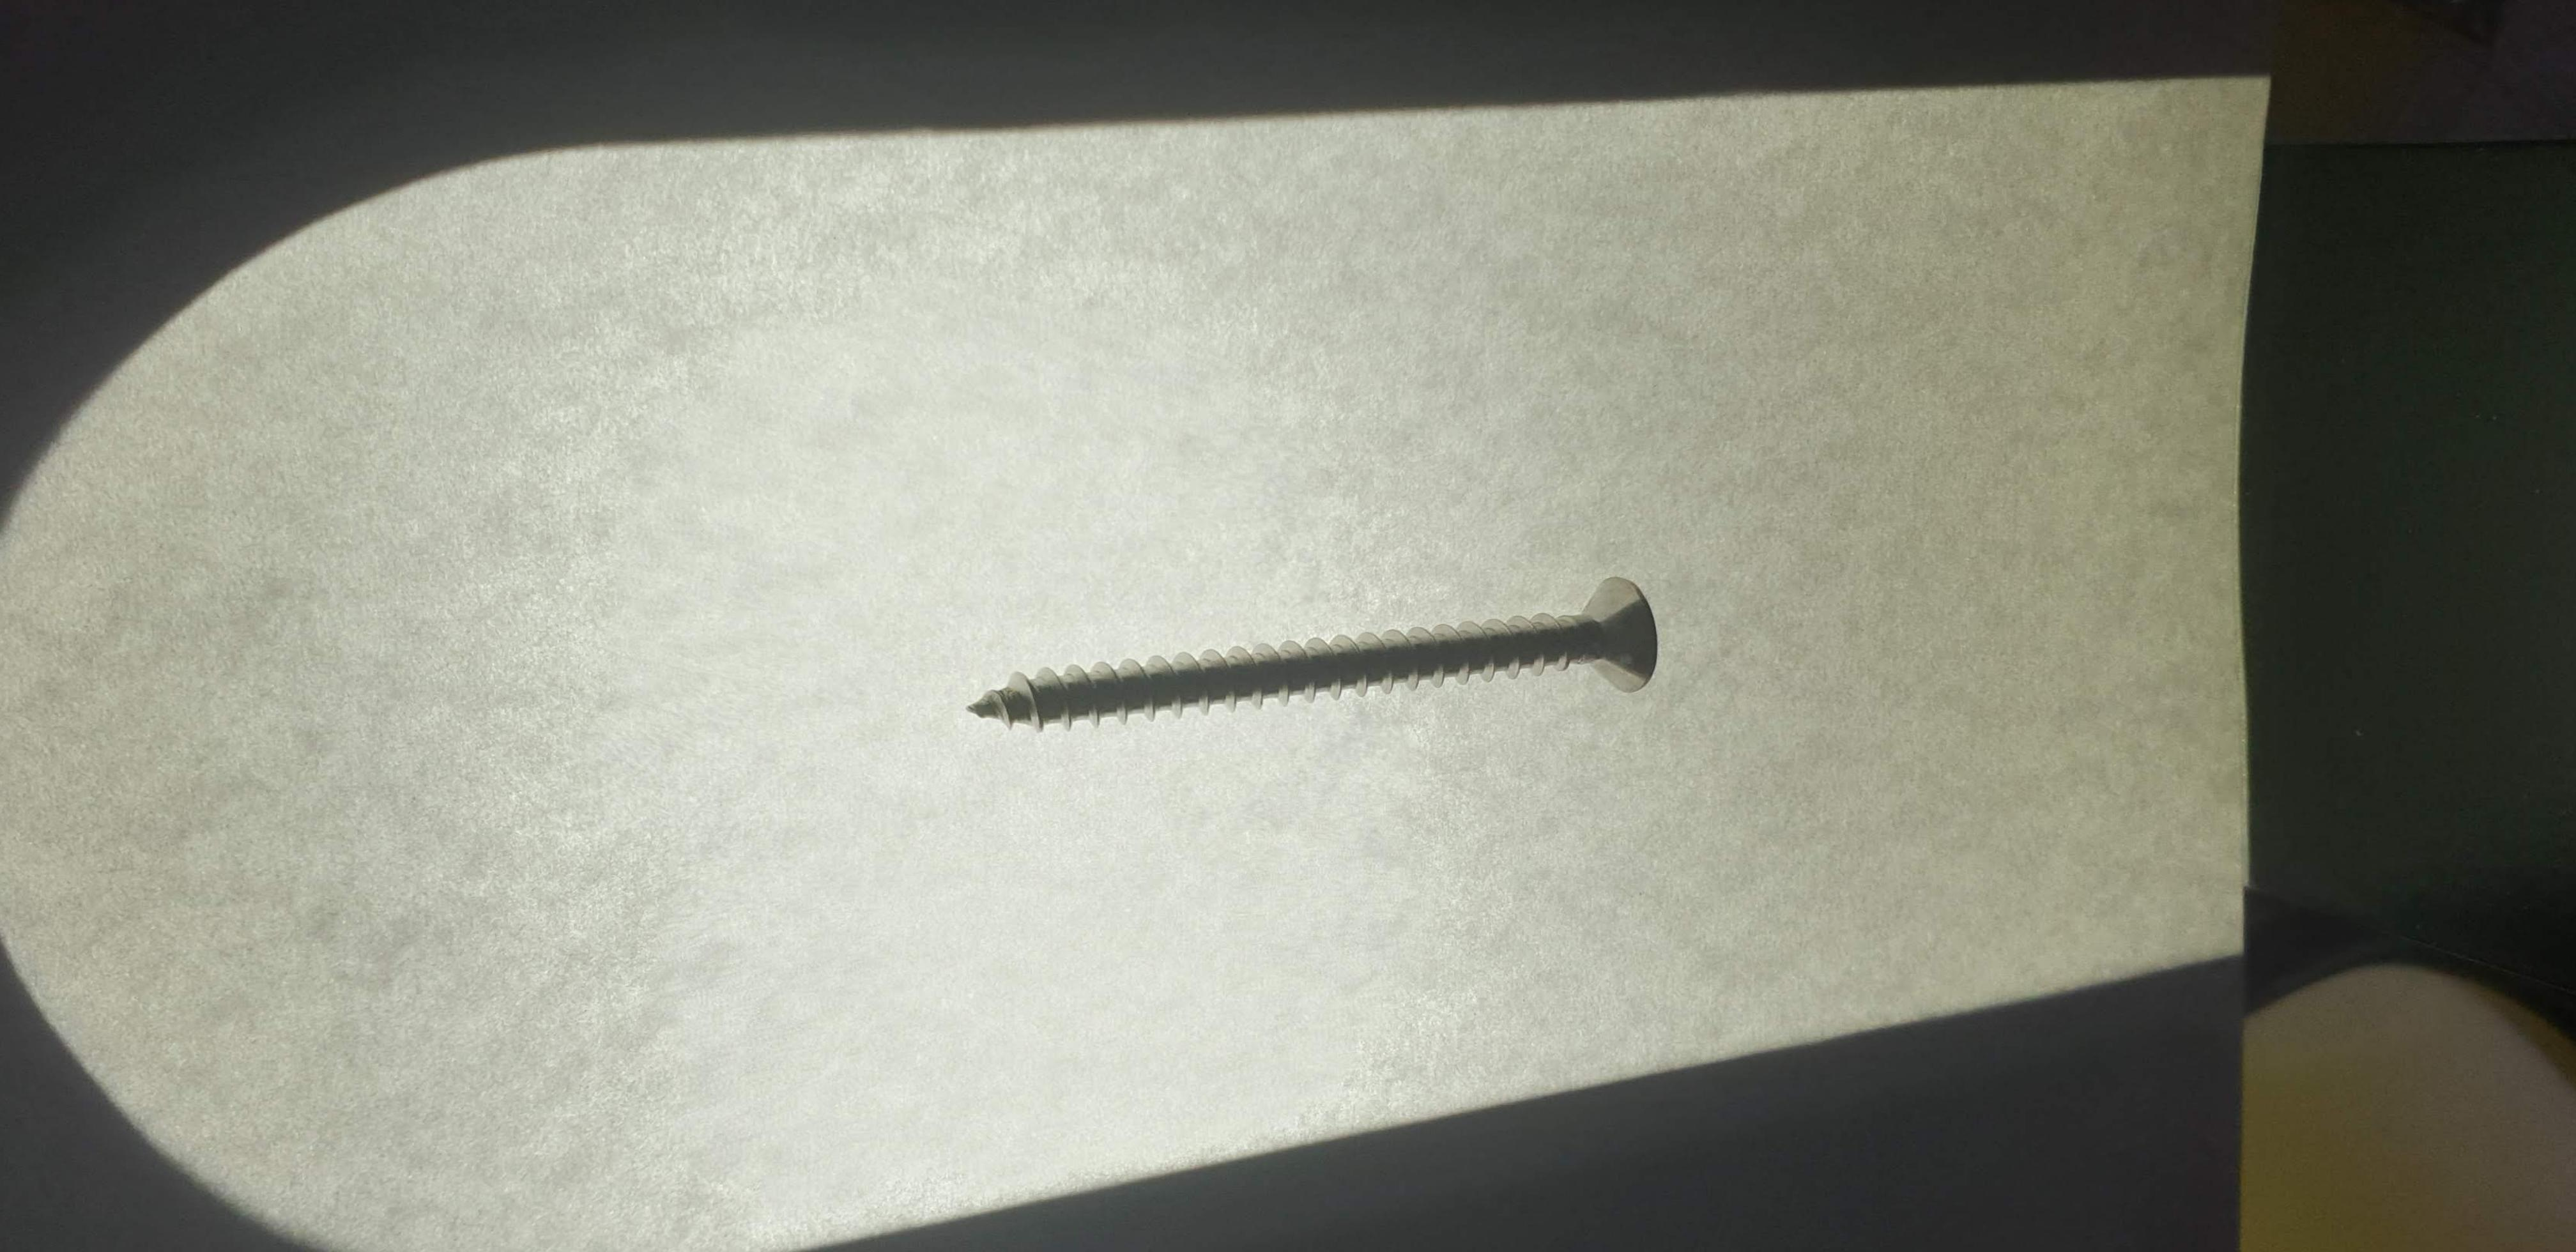S001: (943, 554, 1710, 757)
